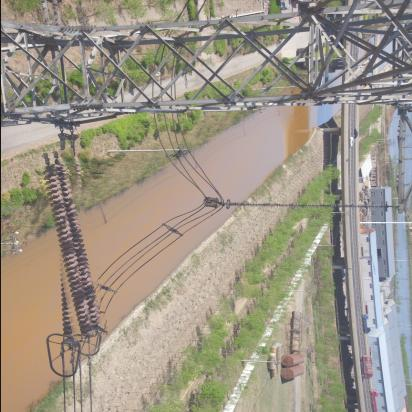insulator: (47, 151, 101, 342)
